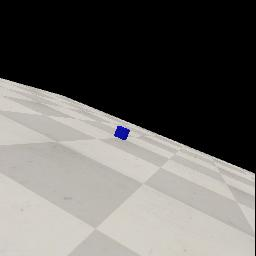box: (114, 126, 130, 140)
